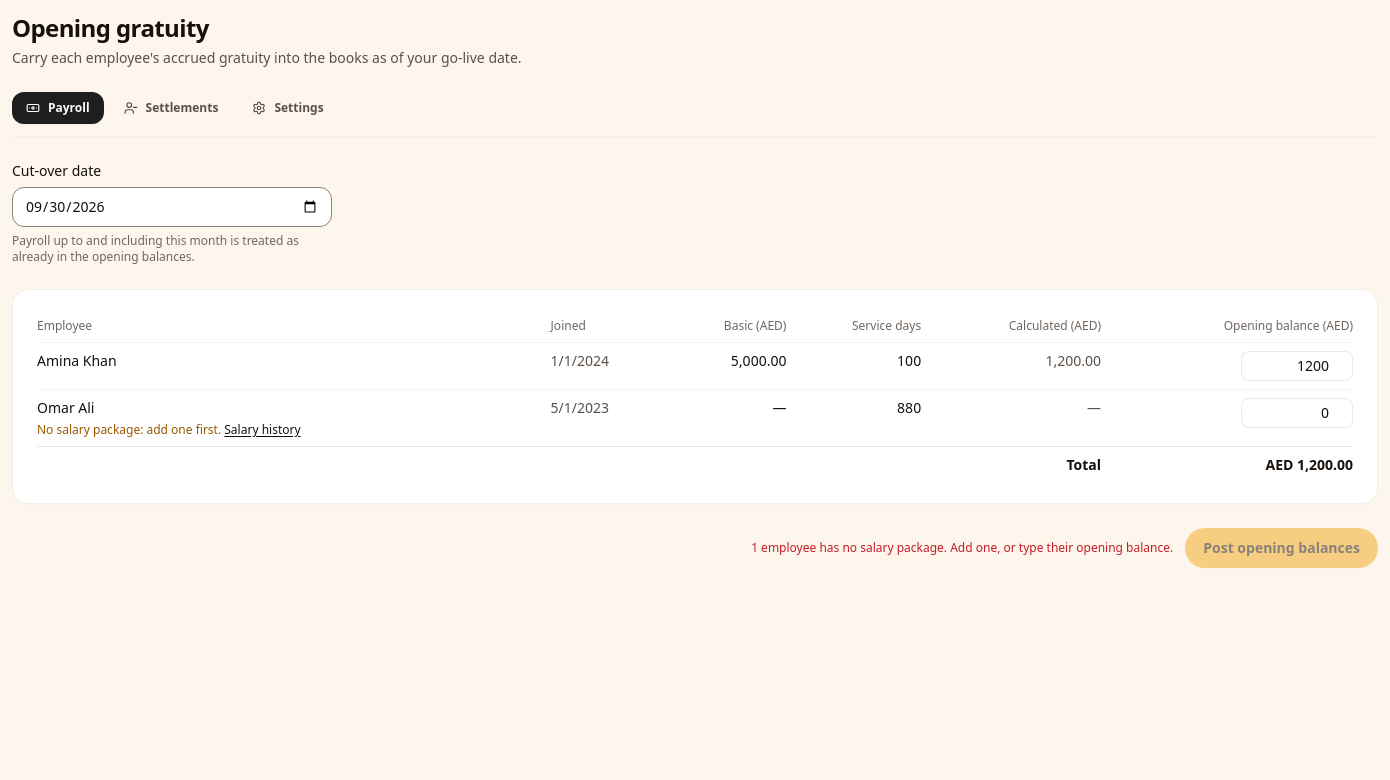
it: OpeningGratuityView › flags an employee with service but no salary package and will not post their 0.00
Expected: the element with test id "opening-no-package" shows "No salary package: add one first", top-left (37, 421), bottom-right (221, 438)
Expected: the button "Post opening balances" is disabled, top-left (1185, 528), bottom-right (1378, 568)
// A balance typed in from the old system is postable.
Replace the text in the number field named "Opening balance for Omar Ali" with "4200". click: (1297, 413)
box: top-left (1241, 398), bottom-right (1353, 428)
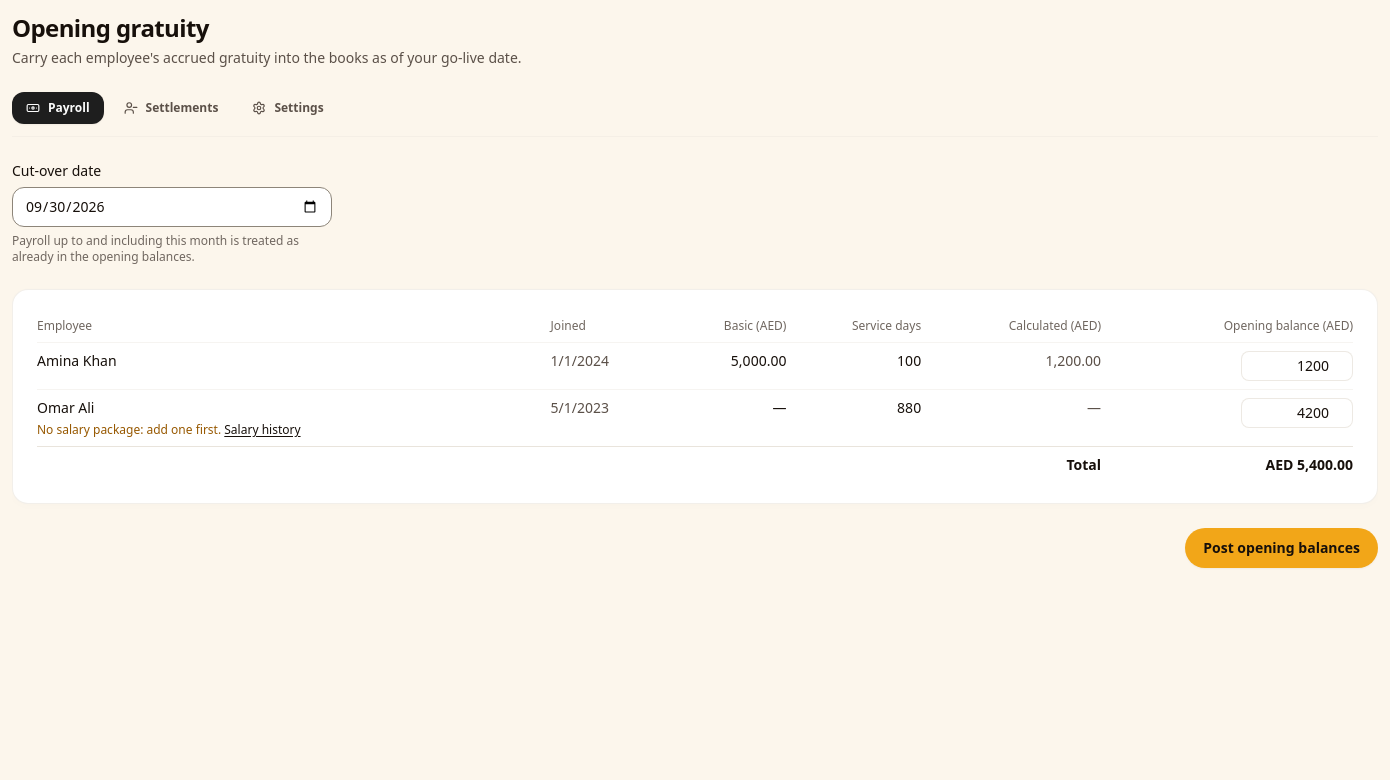
Expected: the button "Post opening balances" is enabled, top-left (1185, 528), bottom-right (1378, 568)
